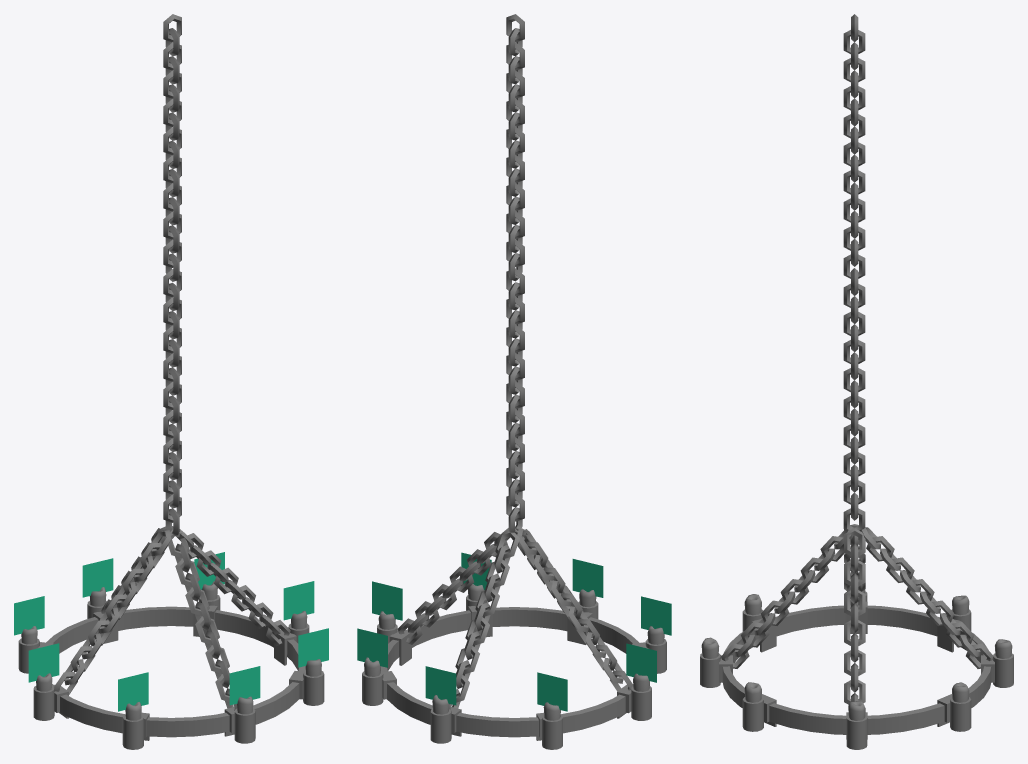
Rendered from SM_Chandelier.fbx.
3 views of the same model, side by side, from view 1: azimuth 30°, elevation 25°; view 2: azimuth 150°, elevation 25°; view 3: azimuth 270°, elevation 25° (orthographic).
Parts seen in each view (by area): view 1: Chandelier; view 2: Chandelier; view 3: Chandelier.
Boxes of the visible parts, box(x1,y1,x2,y2) form: Chandelier: box(14, 14, 328, 749); Chandelier: box(357, 14, 671, 749); Chandelier: box(700, 14, 1013, 749).
Size of the model in its own units: 147 by 331 by 140.
